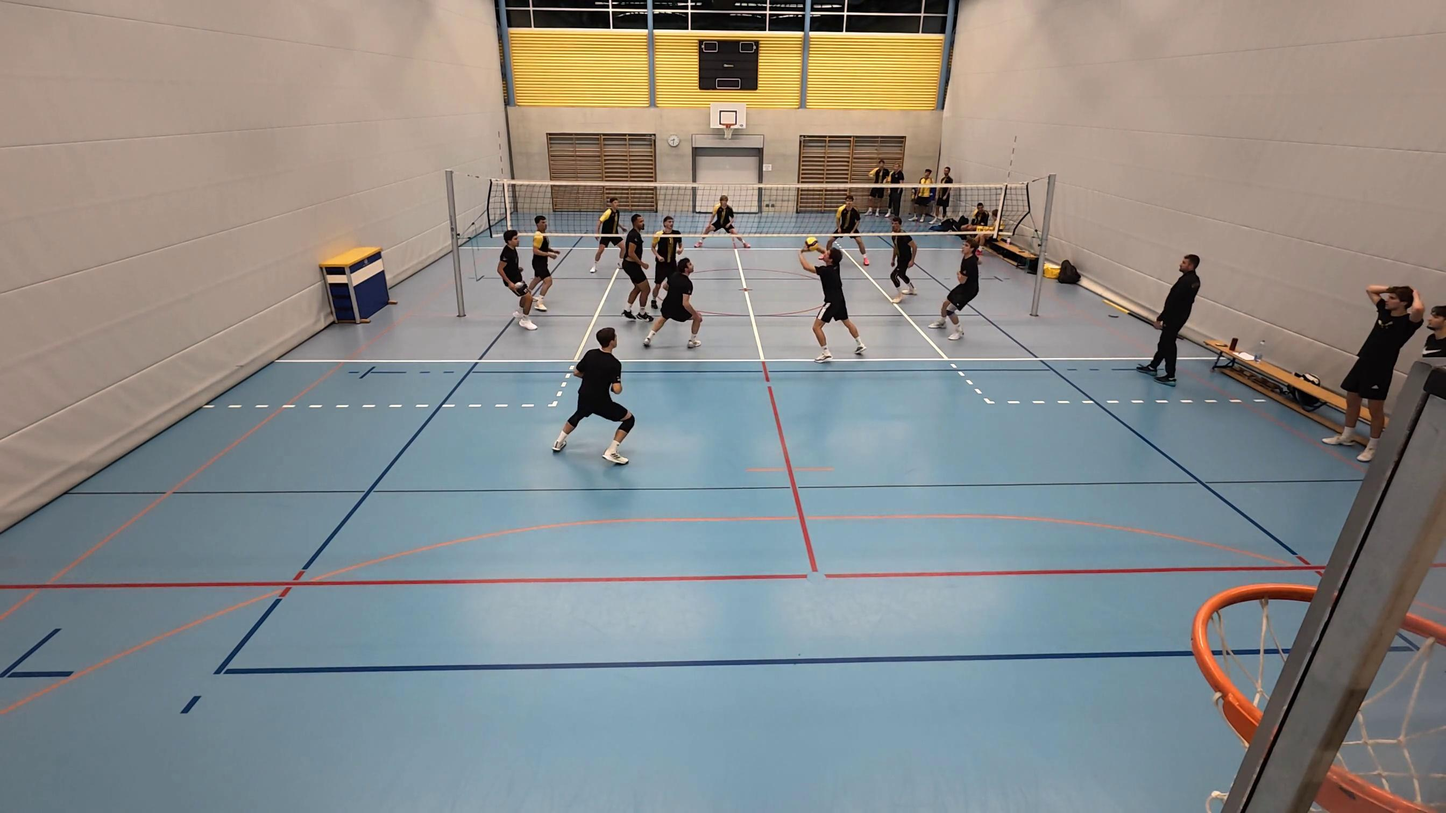difesa: (798, 241, 867, 363)
